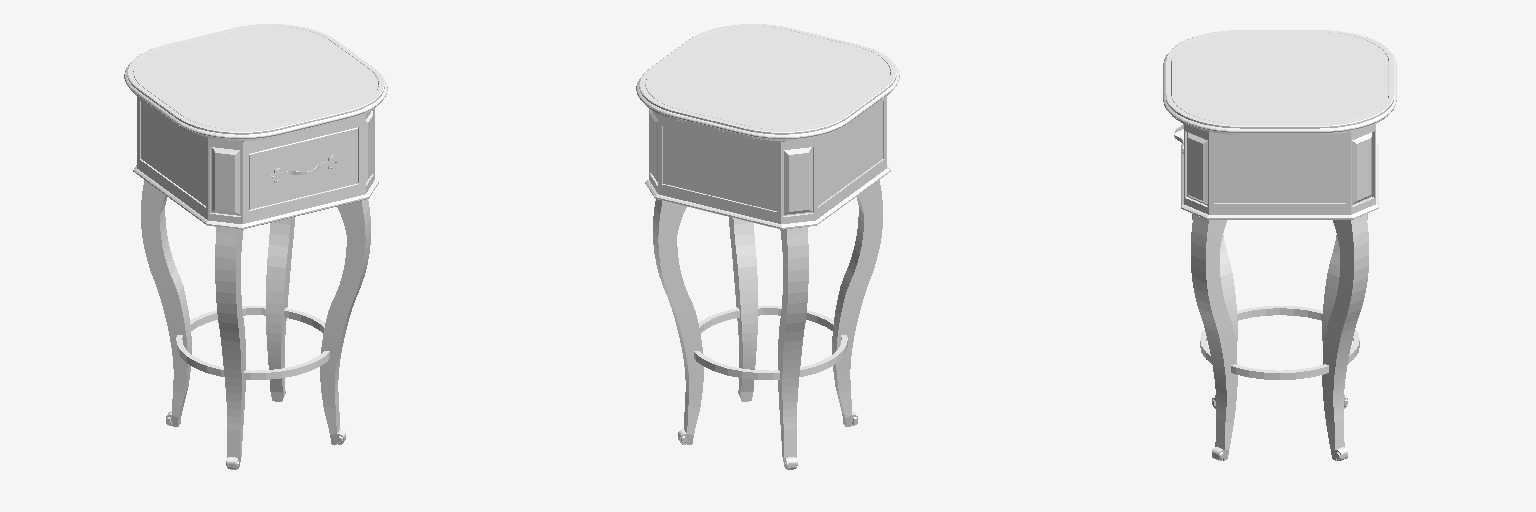
Rendered from table.obj.
3 views of the same model, side by side, from view 1: azimuth 30°, elevation 25°; view 2: azimuth 150°, elevation 25°; view 3: azimuth 270°, elevation 25° (orthographic).
Visible parts, largest first — view 1: Antique_French_Table; view 2: Antique_French_Table; view 3: Antique_French_Table.
Boxes of the visible parts, <box> form: Antique_French_Table: <box>124,24,387,469</box>; Antique_French_Table: <box>636,24,899,469</box>; Antique_French_Table: <box>1163,30,1396,460</box>.
Bounding box in the file's own units: 0.5196 × 0.8726 × 0.5196.